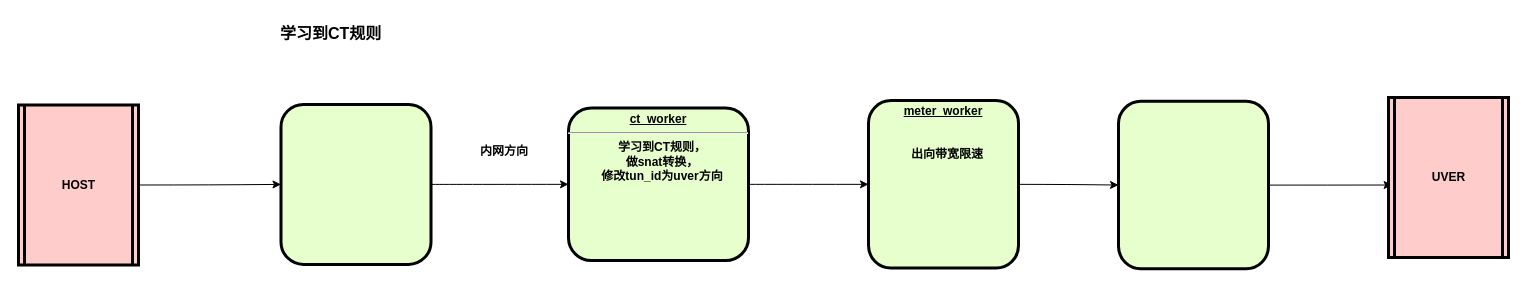
This 1527x287 diagram has some shape labels left out. The centre of each missing label's shape, as x and y in pixels:
"rx_worker 校验GRE合法性 解析metadata" belongs at point 355,183.
"tx_worker 内层ttl-1 根据nat后五元组hash， 选择uver节点" belongs at point 1193,184.
